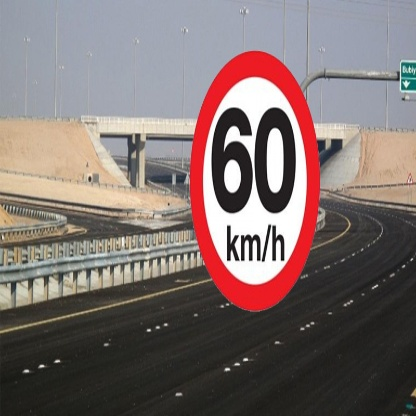limit2: (189, 48, 322, 315)
